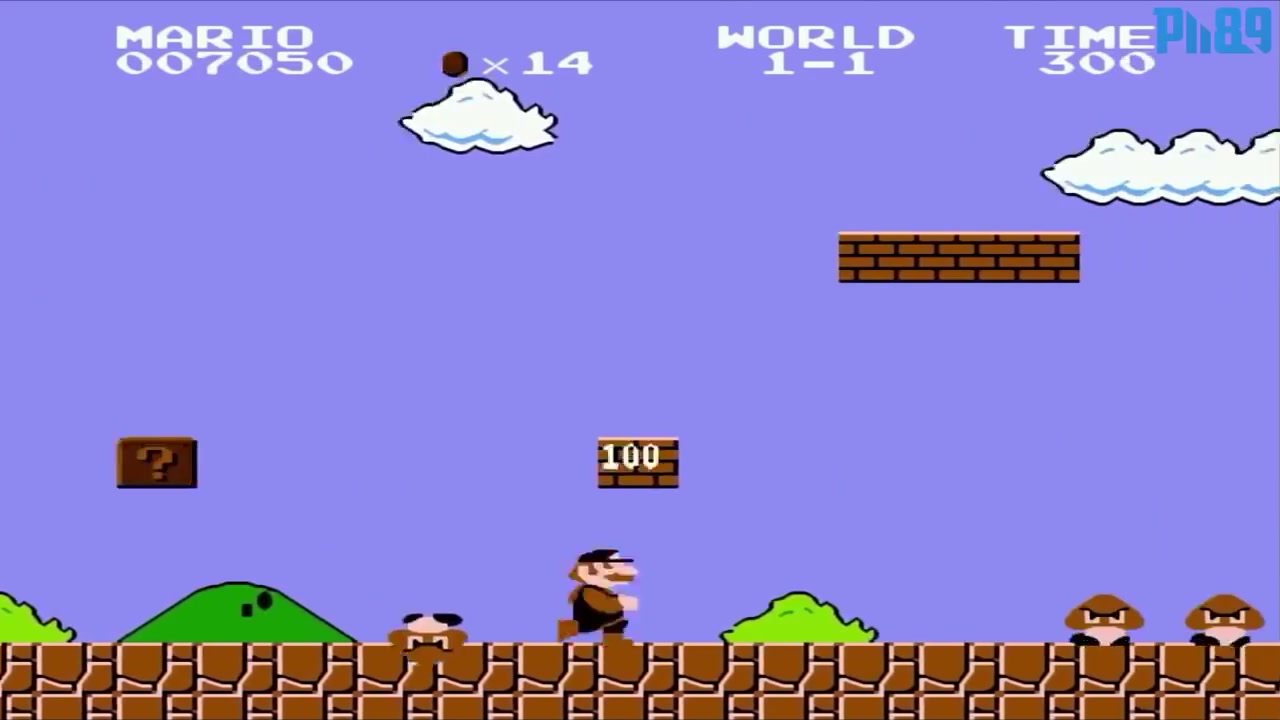mario: (546, 544, 647, 645)
